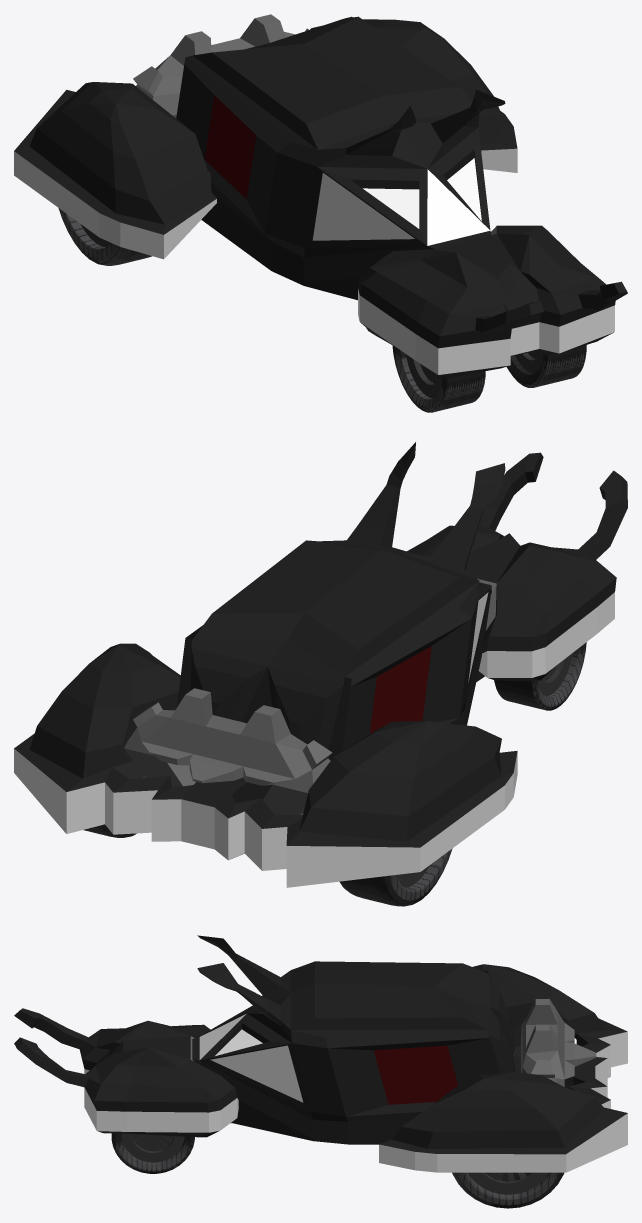
File: bugmobile.glb
The picture shows the model from 3 angles, top to bottom: view 1: azimuth 30°, elevation 25°; view 2: azimuth 150°, elevation 25°; view 3: azimuth 270°, elevation 25°; orthographic projection. The views are drawn at different scales.
Parts seen in each view (by area): view 1: chassis, front_right_wheel, front_left_wheel, rear_right_wheel; view 2: chassis, front_right_wheel, rear_right_wheel, rear_left_wheel; view 3: chassis, rear_left_wheel, front_left_wheel.
Part boxes in pixels (<box>): chassis: <box>14,14,627,377</box>; front_right_wheel: <box>392,345,485,412</box>; front_left_wheel: <box>507,345,586,387</box>; rear_right_wheel: <box>58,208,151,265</box>; chassis: <box>14,442,627,887</box>; front_right_wheel: <box>494,642,586,710</box>; rear_right_wheel: <box>339,848,452,906</box>; rear_left_wheel: <box>83,761,146,837</box>; chassis: <box>14,935,627,1172</box>; rear_left_wheel: <box>452,1172,564,1208</box>; front_left_wheel: <box>111,1133,194,1173</box>.
Size of the model in its own units: 2.97 by 1.82 by 5.12.
Materials: 10 (1 with a texture image).
